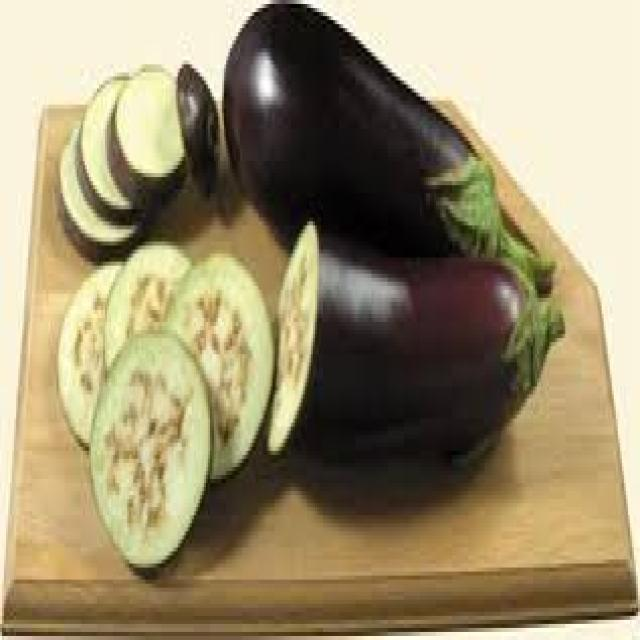eggplant: (262, 205, 639, 482), (225, 0, 566, 250), (45, 247, 289, 554), (39, 20, 223, 248)
